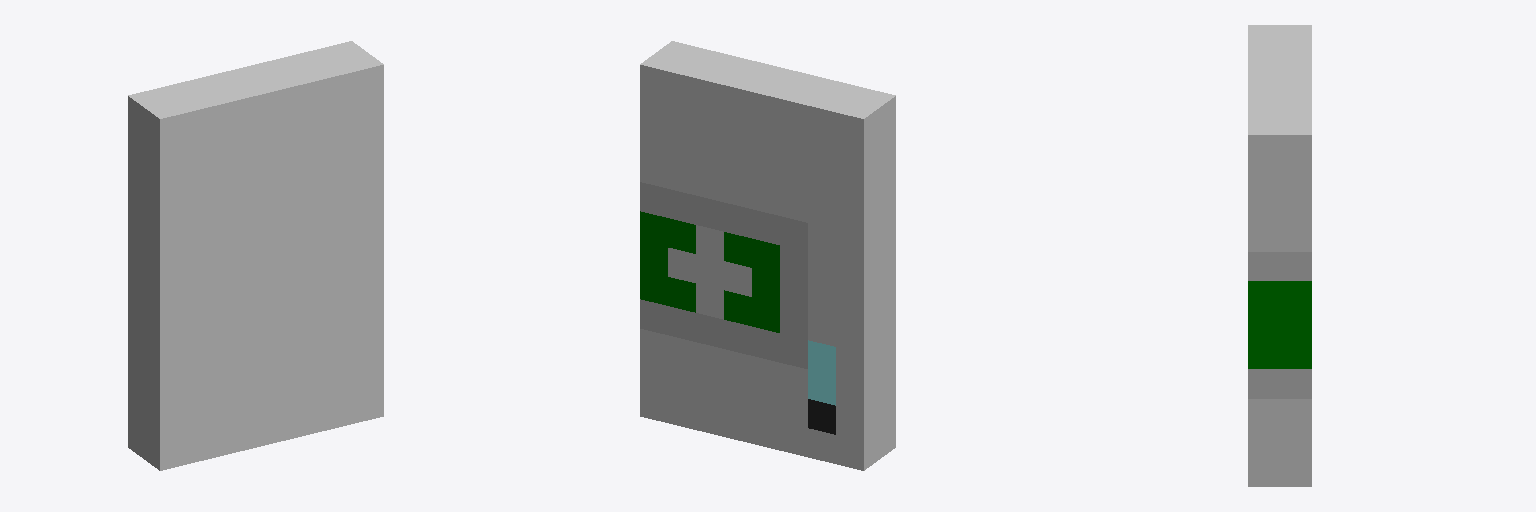
3 views of the same model, side by side, from view 1: azimuth 30°, elevation 25°; view 2: azimuth 150°, elevation 25°; view 3: azimuth 270°, elevation 25° (orthographic).
Parts seen in each view (by area): view 1: cube; view 2: cube; view 3: cube.
Boxes of the visible parts, x1=… form: cube: x1=128, y1=41, x2=383, y2=470; cube: x1=640, y1=41, x2=895, y2=470; cube: x1=1248, y1=25, x2=1311, y2=486.
Bounding box in the file's own units: 0.5 × 0.75 × 0.125.
Materials: 1 (1 with a texture image).